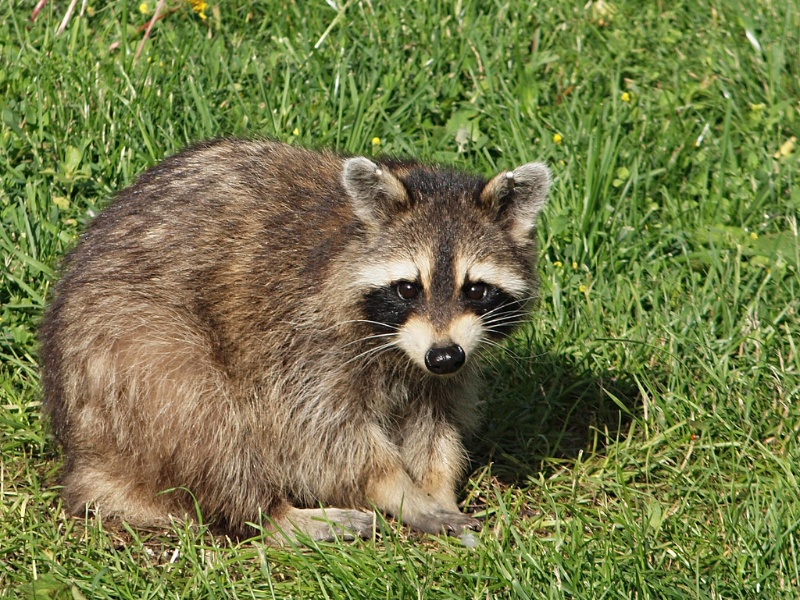raccoon: (36, 137, 554, 553)
